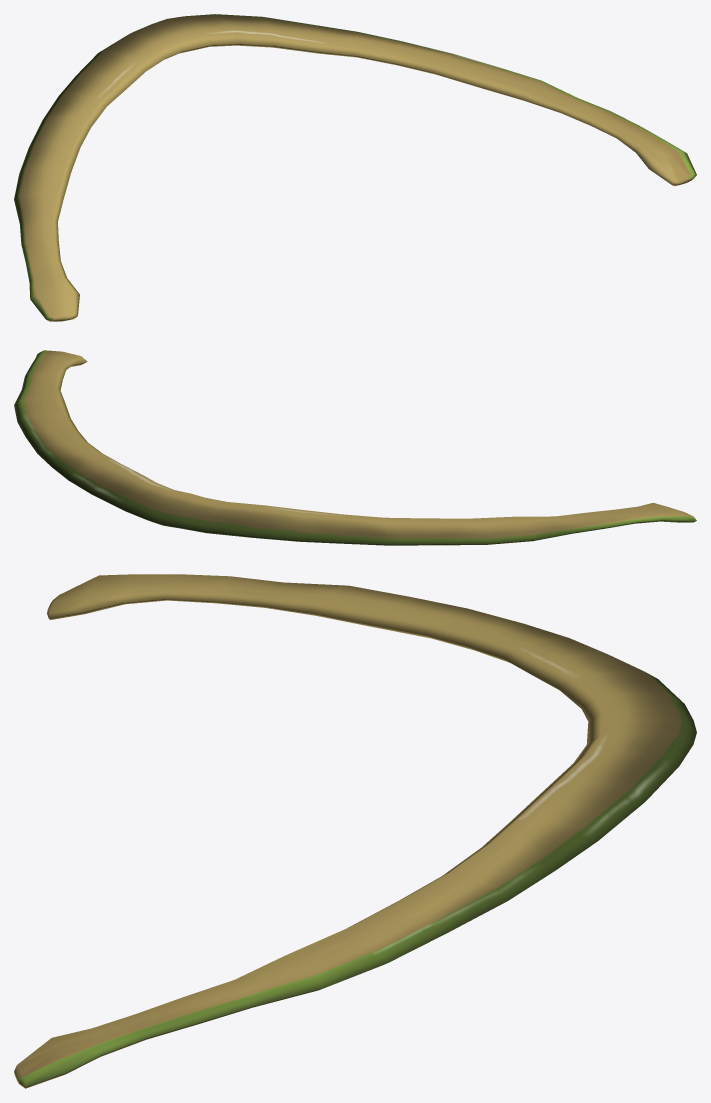
The model's file is Rang_a_Rang_Final.fbx.
3 views of the same model, one above another, from view 1: azimuth 30°, elevation 25°; view 2: azimuth 150°, elevation 25°; view 3: azimuth 270°, elevation 25° (orthographic). The views are drawn at different scales.
Parts seen in each view (by area): view 1: Rang_a_Rang; view 2: Rang_a_Rang; view 3: Rang_a_Rang.
Boxes of the visible parts, x1,y1,x2,y2 form: Rang_a_Rang: (14, 14, 696, 321); Rang_a_Rang: (14, 350, 696, 545); Rang_a_Rang: (14, 574, 696, 1088).
Size of the model in its own units: 13.45 by 1.7 by 7.93.
Materials: 1 (1 with a texture image).
